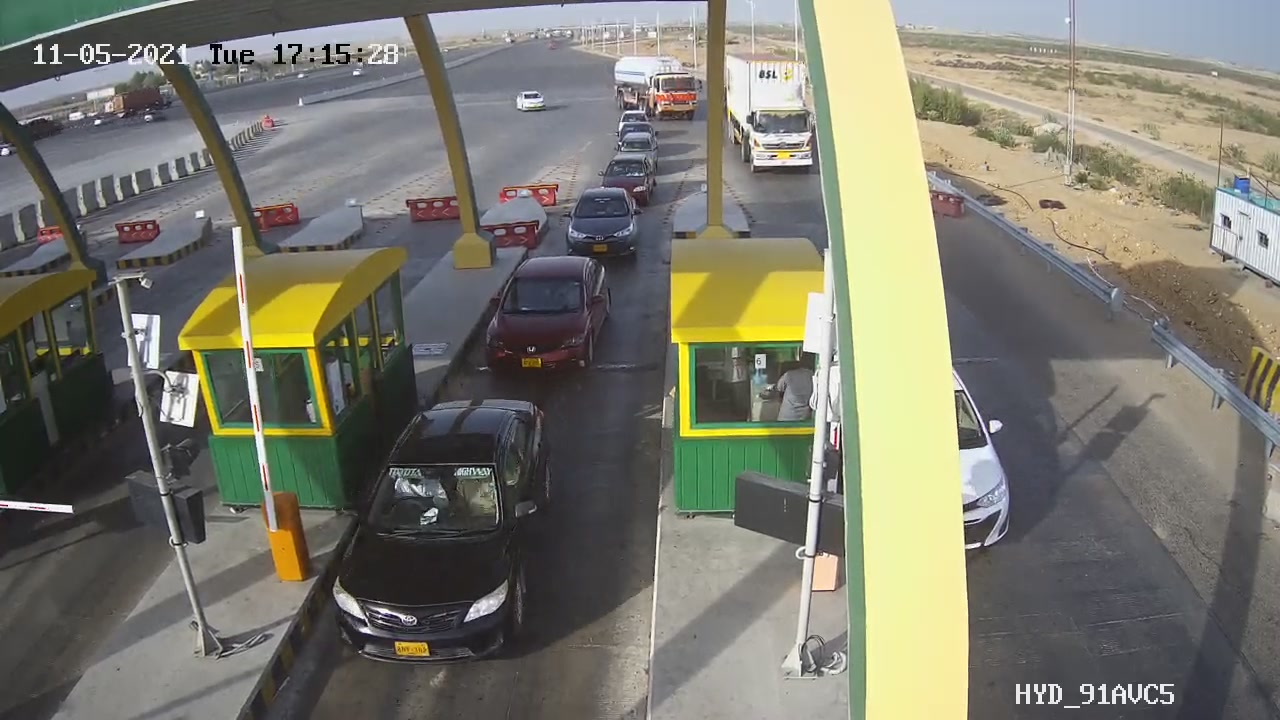F1: (473, 242, 625, 394), (550, 179, 648, 270)
